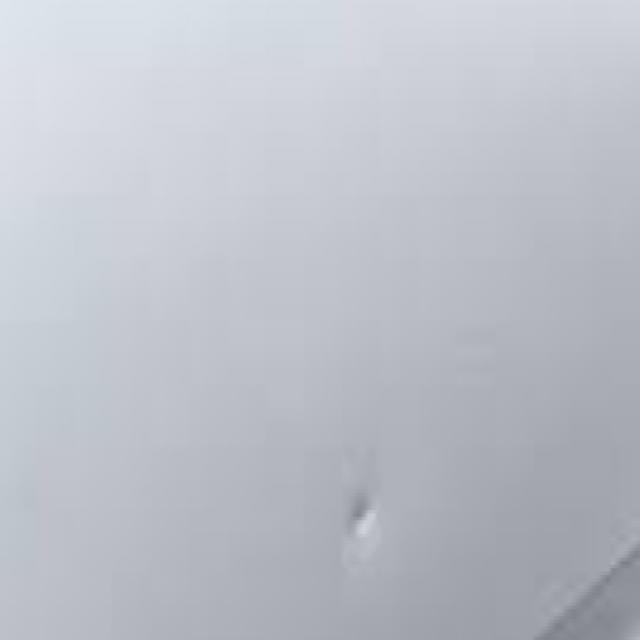dents: (326, 453, 396, 575)
